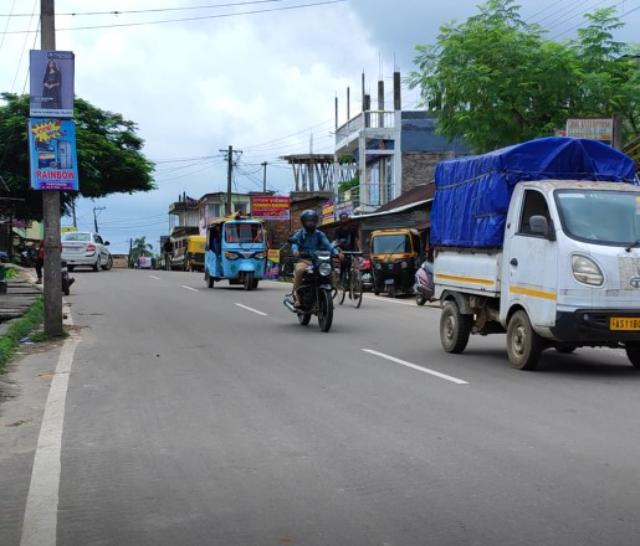motorcycle: (275, 207, 347, 333)
withHelmet: (296, 211, 320, 235)
